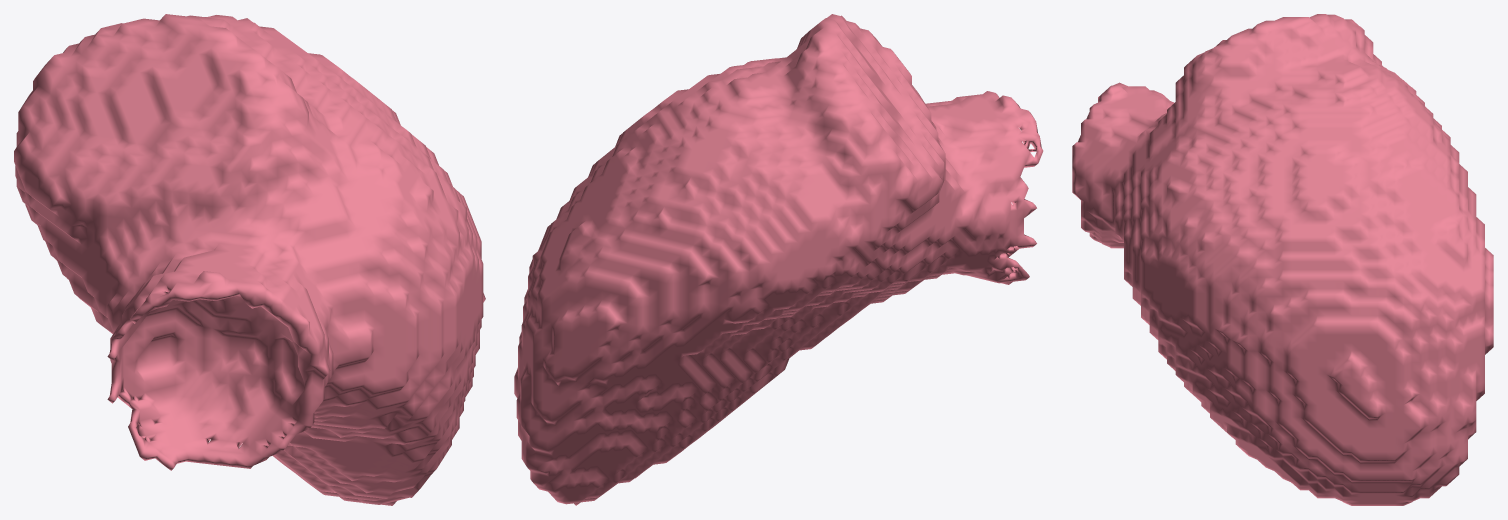
3 views of the same model, side by side, from view 1: azimuth 30°, elevation 25°; view 2: azimuth 150°, elevation 25°; view 3: azimuth 270°, elevation 25° (orthographic). The views are drawn at different scales.
Parts seen in each view (by area): view 1: structure; view 2: structure; view 3: structure.
Part boxes in pixels (x1,y1,x2,y2): structure: [14, 14, 485, 505]; structure: [514, 14, 1043, 505]; structure: [1072, 14, 1493, 505].
Size of the model in its own units: 72 by 83.2 by 78.4.
